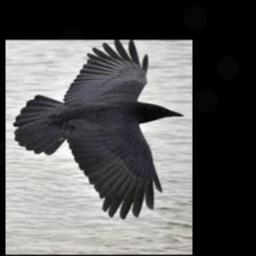Crow: (12, 39, 182, 218)
